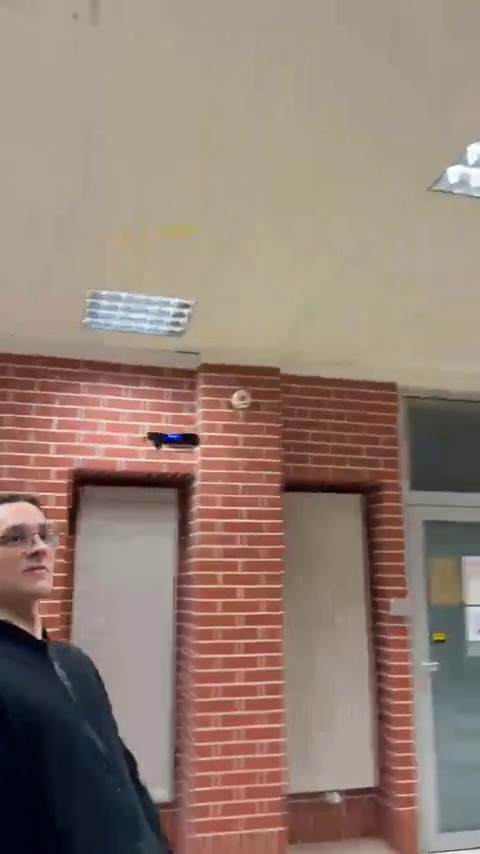drone: (143, 426, 204, 449)
no vest: (0, 491, 176, 854)
